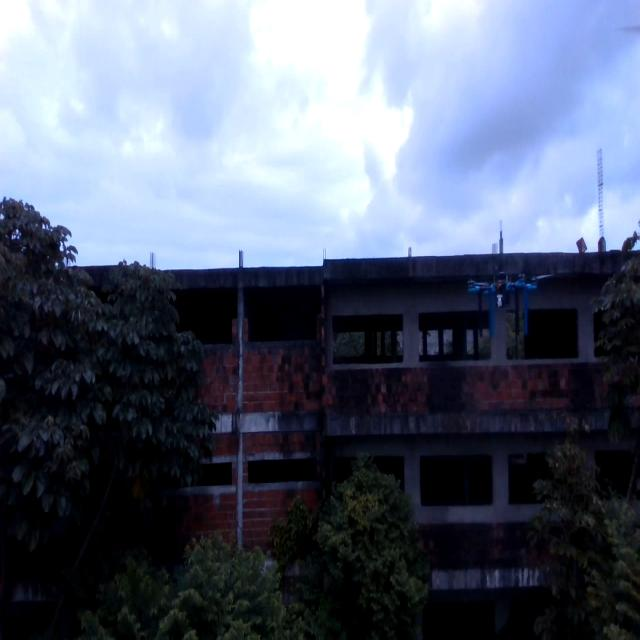-uav-: (456, 255, 542, 339)
